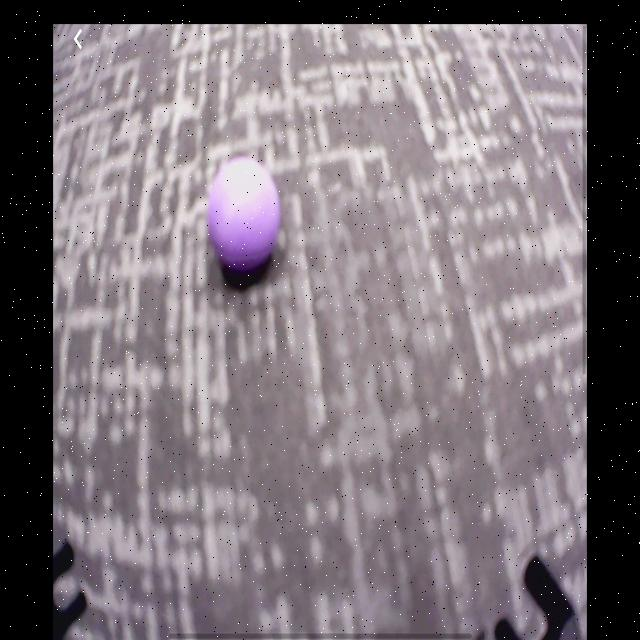ball: (209, 159, 279, 274)
